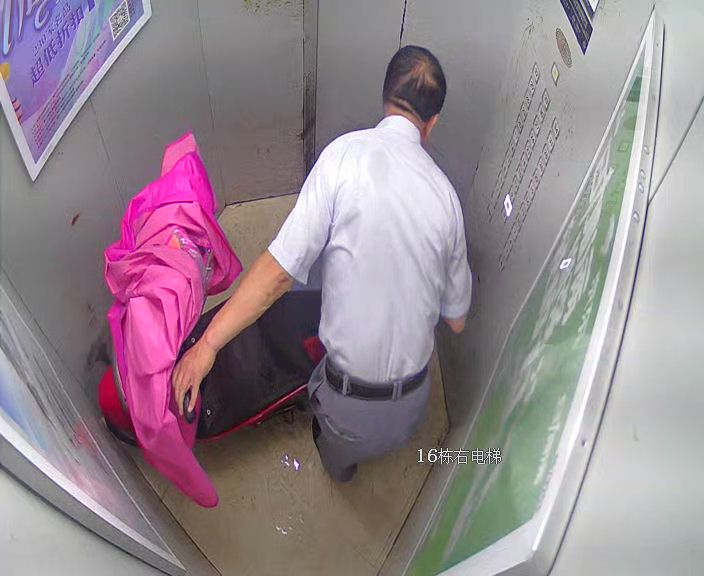Electric-bicycle: (95, 153, 327, 435)
